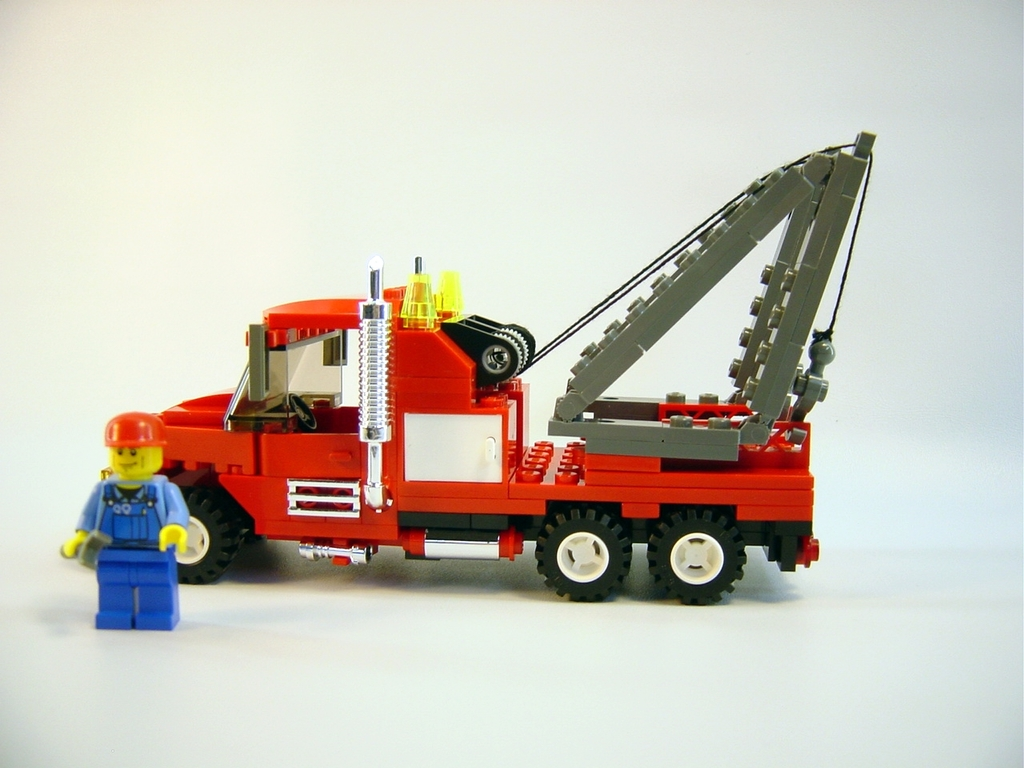Person: (59, 410, 189, 631)
